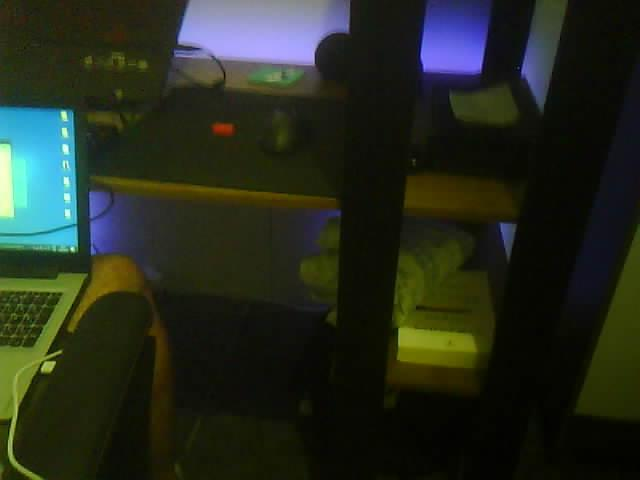lego: (211, 122, 235, 137)
